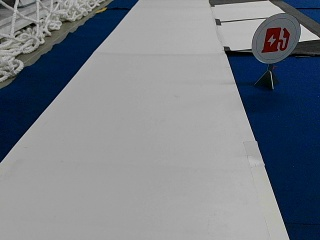battery: (251, 14, 299, 64)
